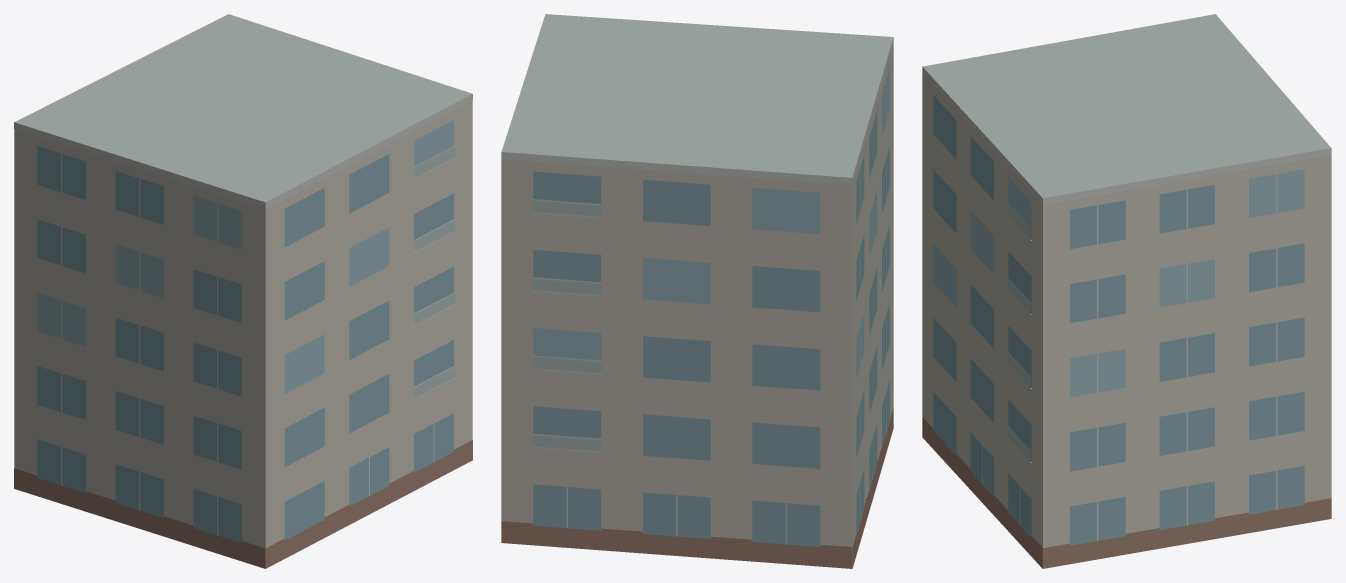
The model's file is survey-upis-32854636.glb.
3 views of the same model, side by side, from view 1: azimuth 30°, elevation 25°; view 2: azimuth 150°, elevation 25°; view 3: azimuth 270°, elevation 25° (orthographic). The views are drawn at different scales.
Visible parts, largest first — view 1: survey-upis-32854636.tmp; view 2: survey-upis-32854636.tmp; view 3: survey-upis-32854636.tmp.
Boxes of the visible parts, x1=… form: survey-upis-32854636.tmp: x1=14, y1=14, x2=472, y2=568; survey-upis-32854636.tmp: x1=501, y1=14, x2=893, y2=568; survey-upis-32854636.tmp: x1=922, y1=14, x2=1331, y2=568.
Bounding box in the file's own units: 14.13 × 13.25 × 13.26.
